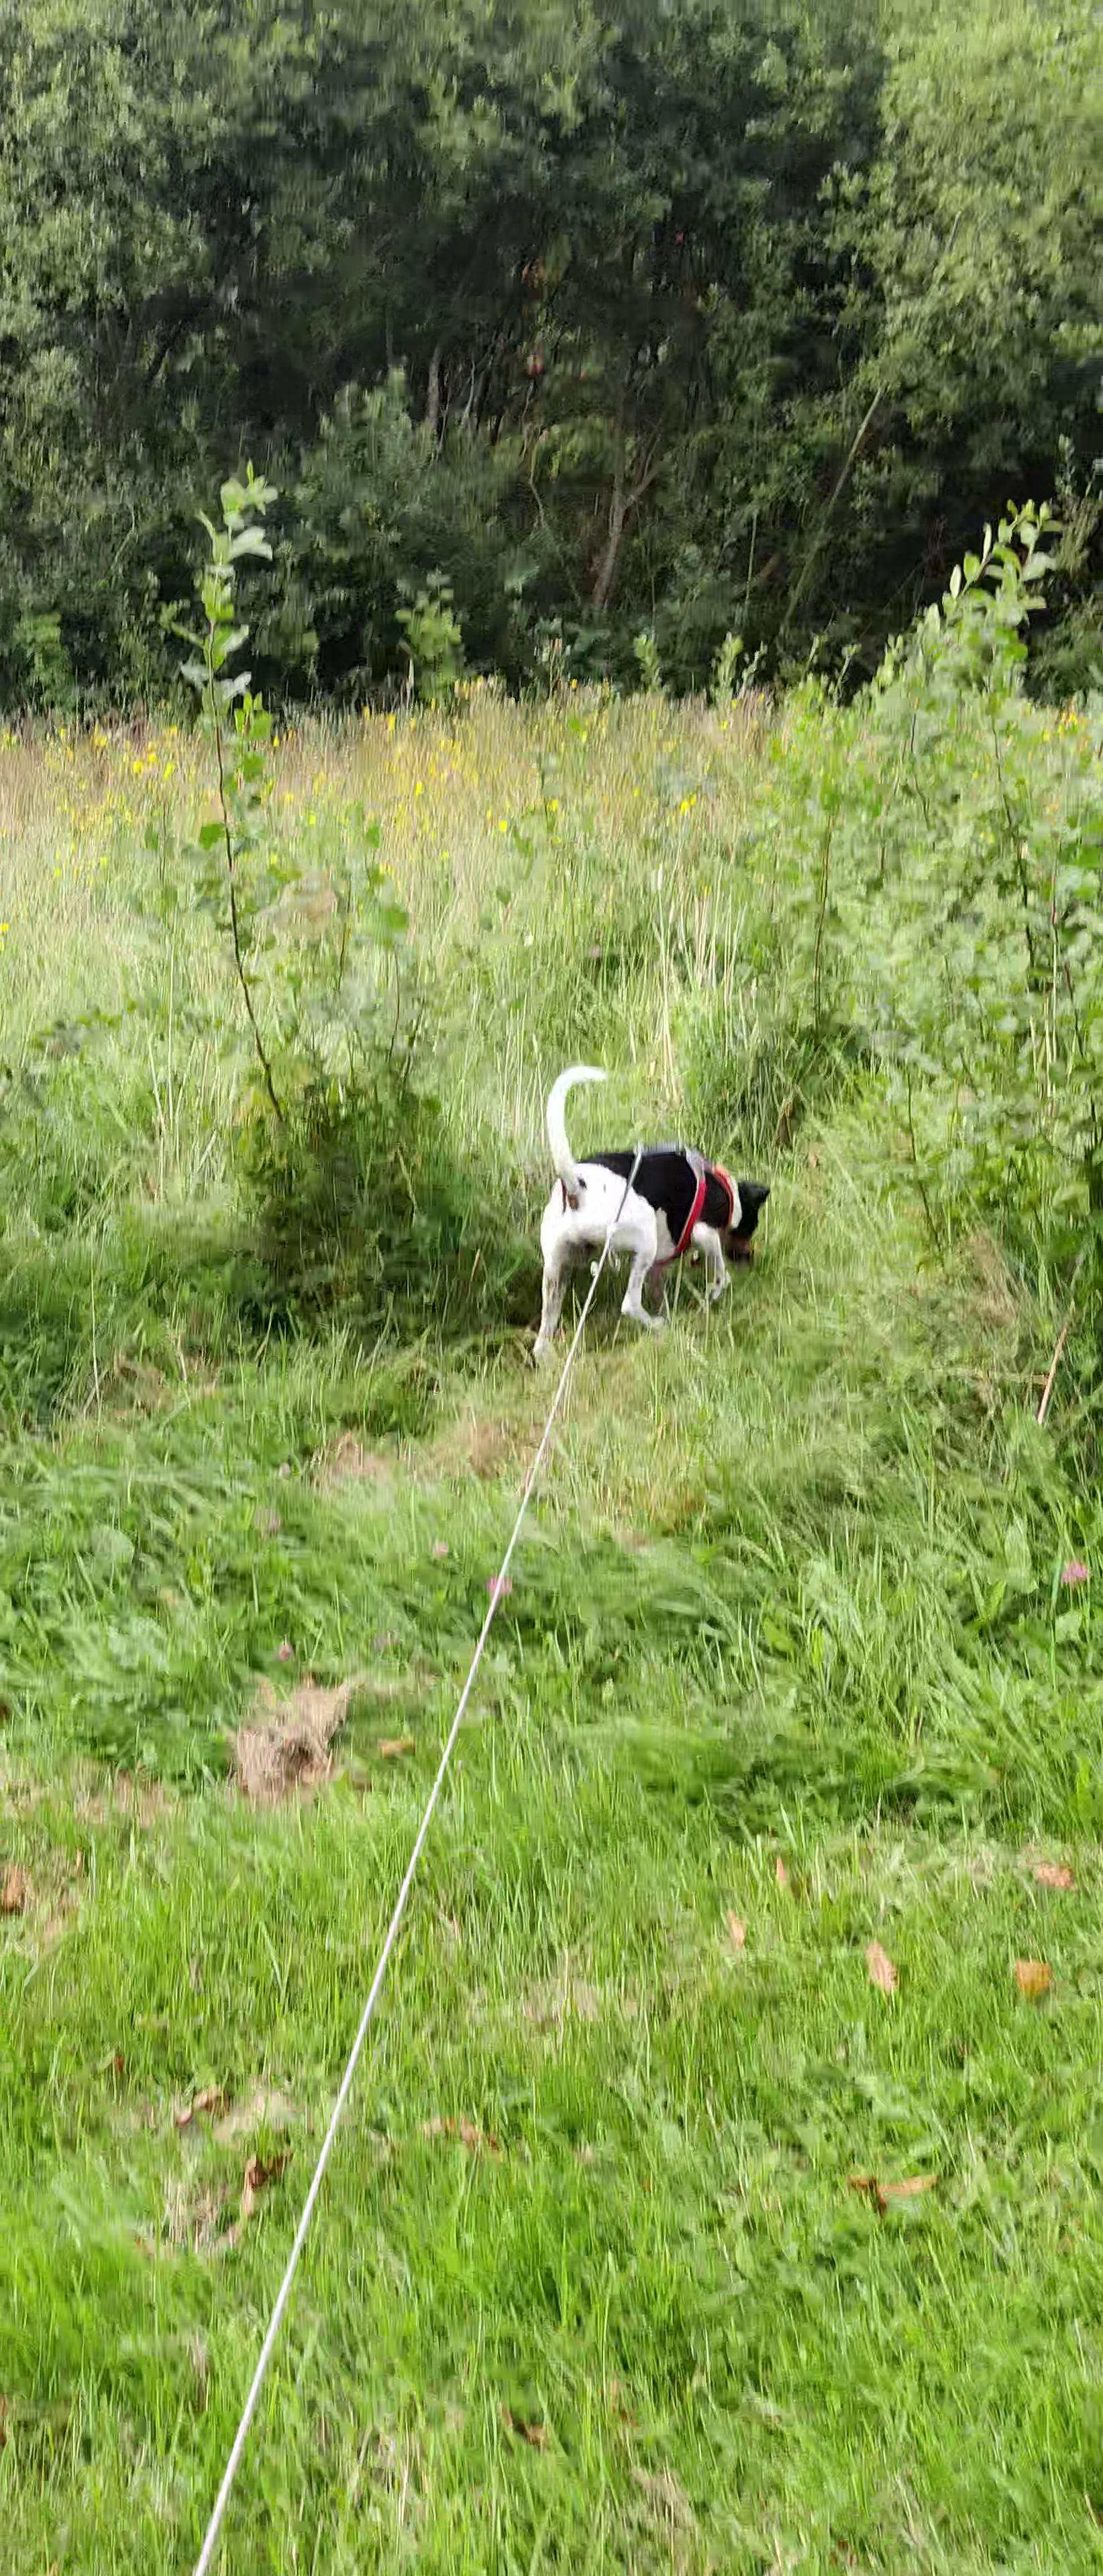Dog: (511, 1056, 797, 1382)
